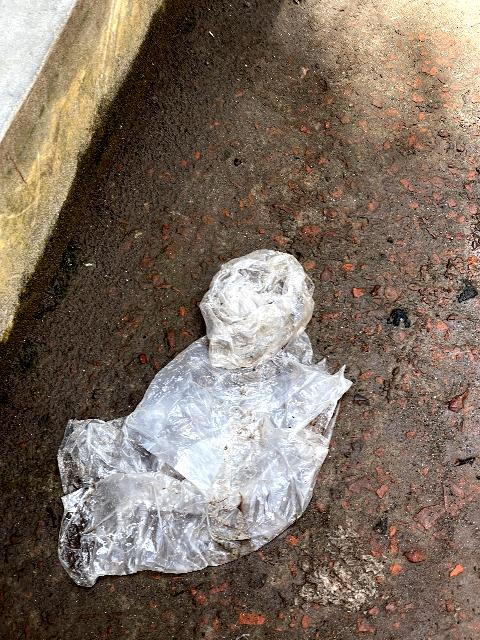polythene: (38, 255, 350, 593)
